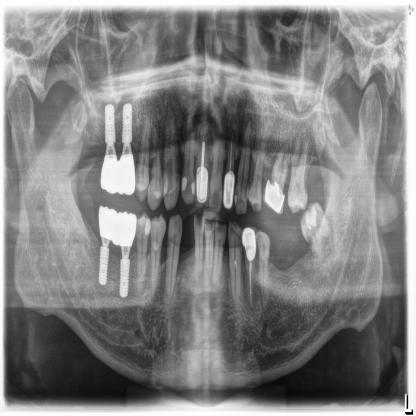ITI: (104, 101, 117, 144), (121, 102, 133, 146), (98, 244, 110, 286), (119, 257, 130, 298)
